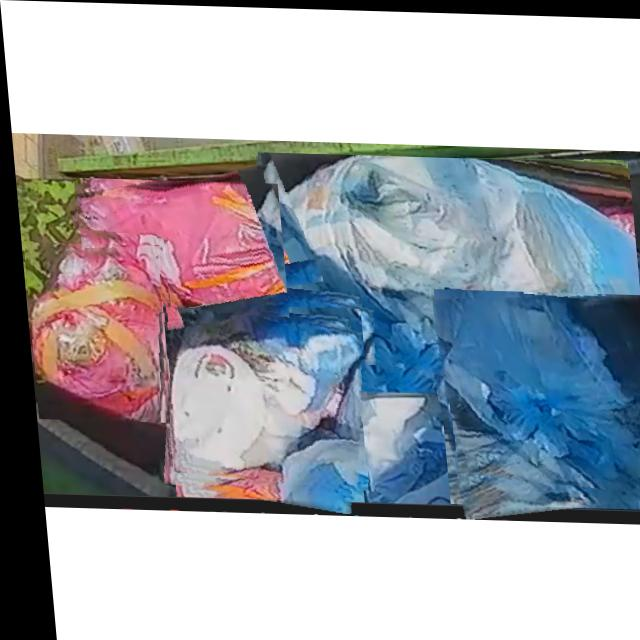other_trashbag: (266, 154, 640, 387), (434, 292, 640, 491), (161, 304, 356, 477), (71, 183, 283, 317), (24, 249, 156, 422)
